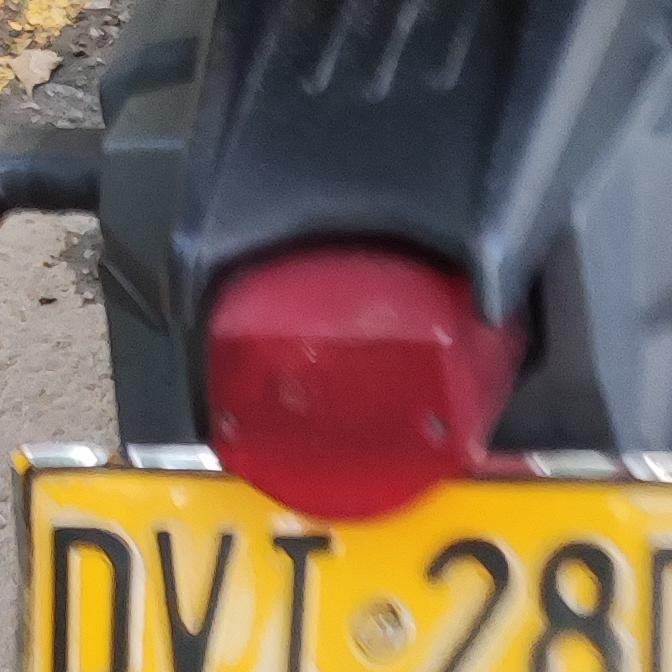plates: (1, 456, 672, 672)
